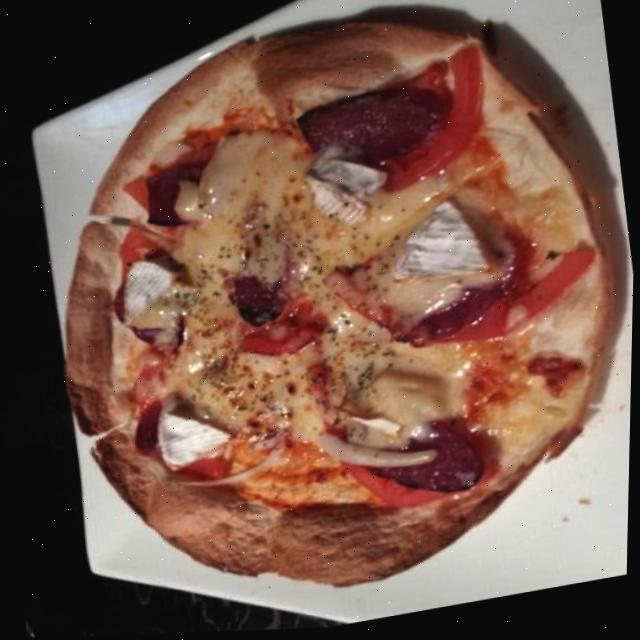汉堡快餐: (10, 0, 640, 635)
